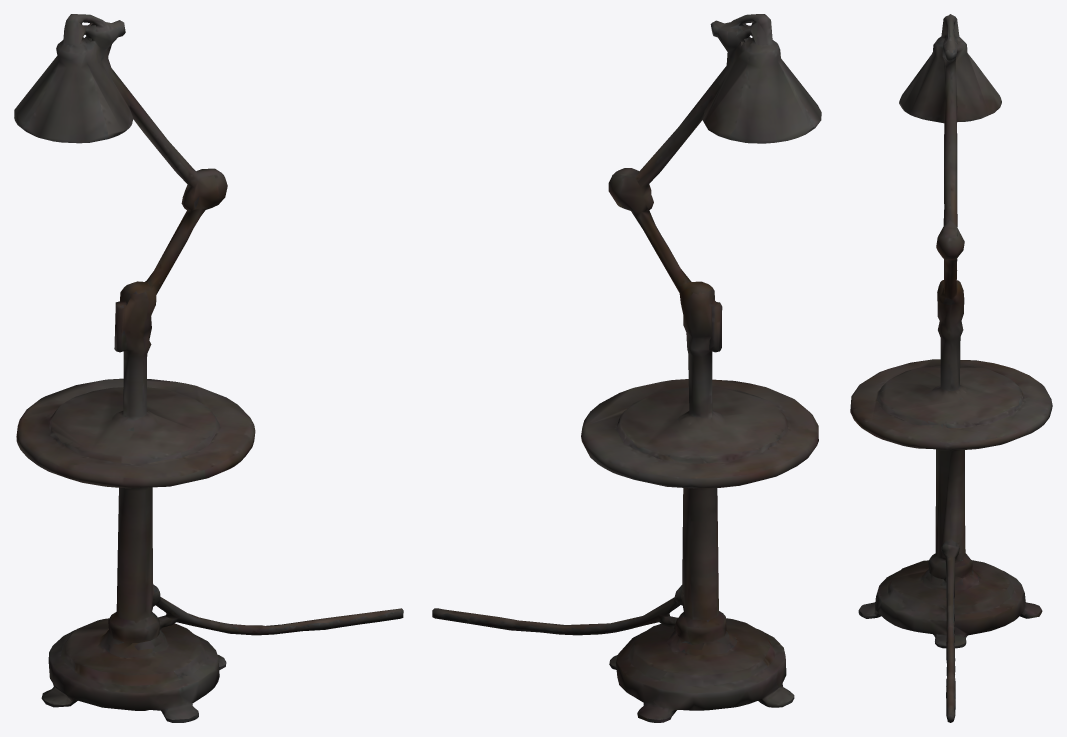
File: old-iron-operating-table-v002.glb
The picture shows the model from 3 angles, left to right: view 1: azimuth 30°, elevation 25°; view 2: azimuth 150°, elevation 25°; view 3: azimuth 270°, elevation 25°; orthographic projection. The views are drawn at different scales.
Visible parts, largest first — view 1: old-iron-operating-table; view 2: old-iron-operating-table; view 3: old-iron-operating-table.
Part boxes in pixels (x1,y1,x2,y2): old-iron-operating-table: (14, 14, 403, 722); old-iron-operating-table: (432, 14, 821, 722); old-iron-operating-table: (850, 14, 1052, 722).
Bounding box in the file's own units: 0.5533 × 0.9495 × 0.3034.
Materials: 1 (1 with a texture image).
